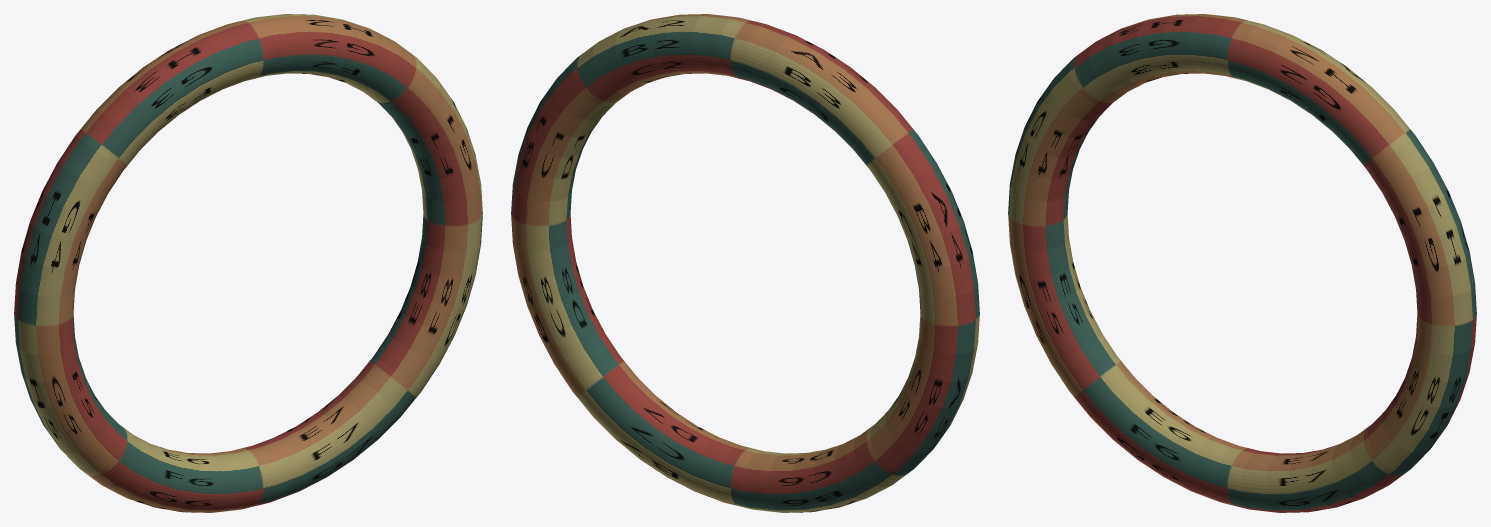
File: texture_torus_R12_r1.glb
3 renders of one model, left to right at view 1: azimuth 30°, elevation 25°; view 2: azimuth 150°, elevation 25°; view 3: azimuth 330°, elevation 25°, orthographic.
Visible parts, largest first — view 1: world; view 2: world; view 3: world.
Boxes of the visible parts, bbox=[...] form: world: bbox=[14, 14, 482, 512]; world: bbox=[511, 14, 979, 512]; world: bbox=[1008, 14, 1476, 512].
Bounding box in the file's own units: 20.27 × 20.23 × 2.26.
Materials: 1 (1 with a texture image).
